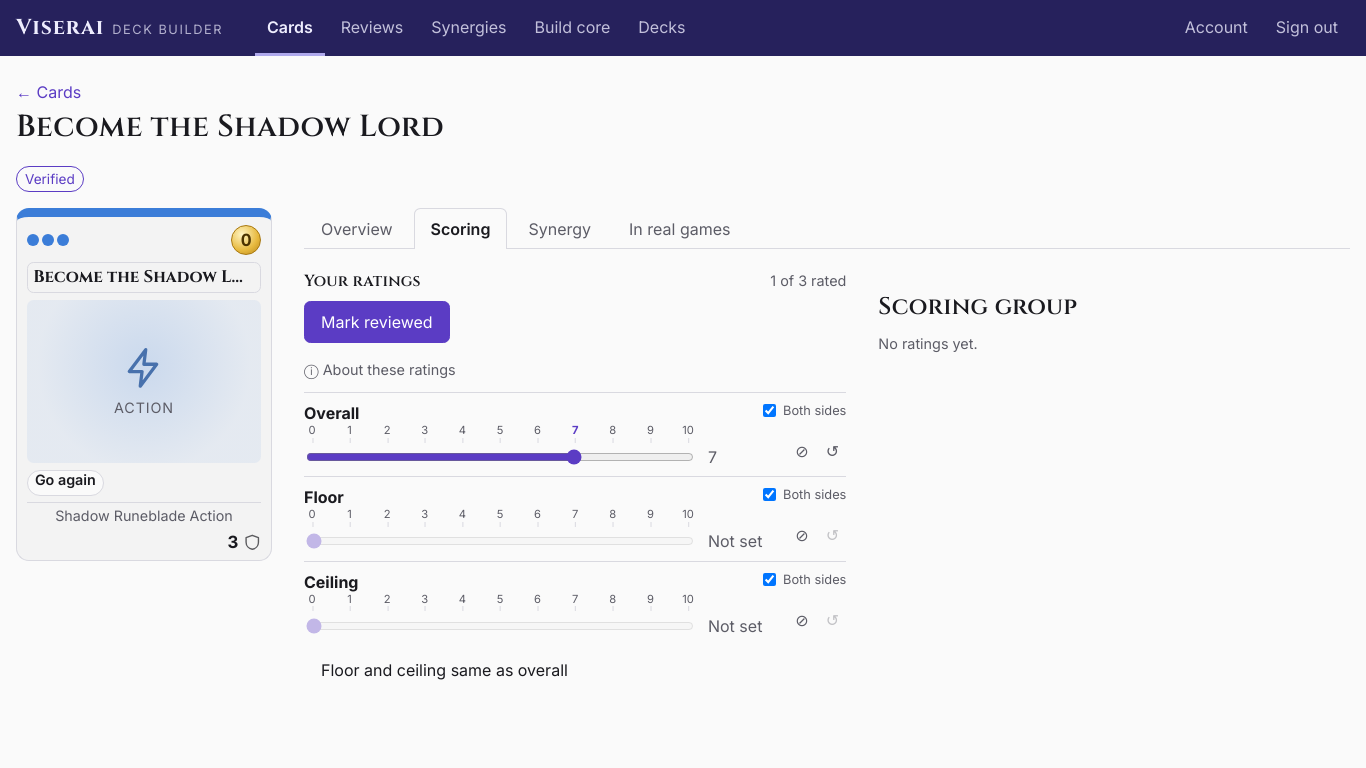
Test case: Mark reviewed › highlights a blank floor and ceiling on a card with conditions, until confirmed as the same as overall
Click the button "Mark reviewed" at (377, 322), box [304, 301, 450, 343]
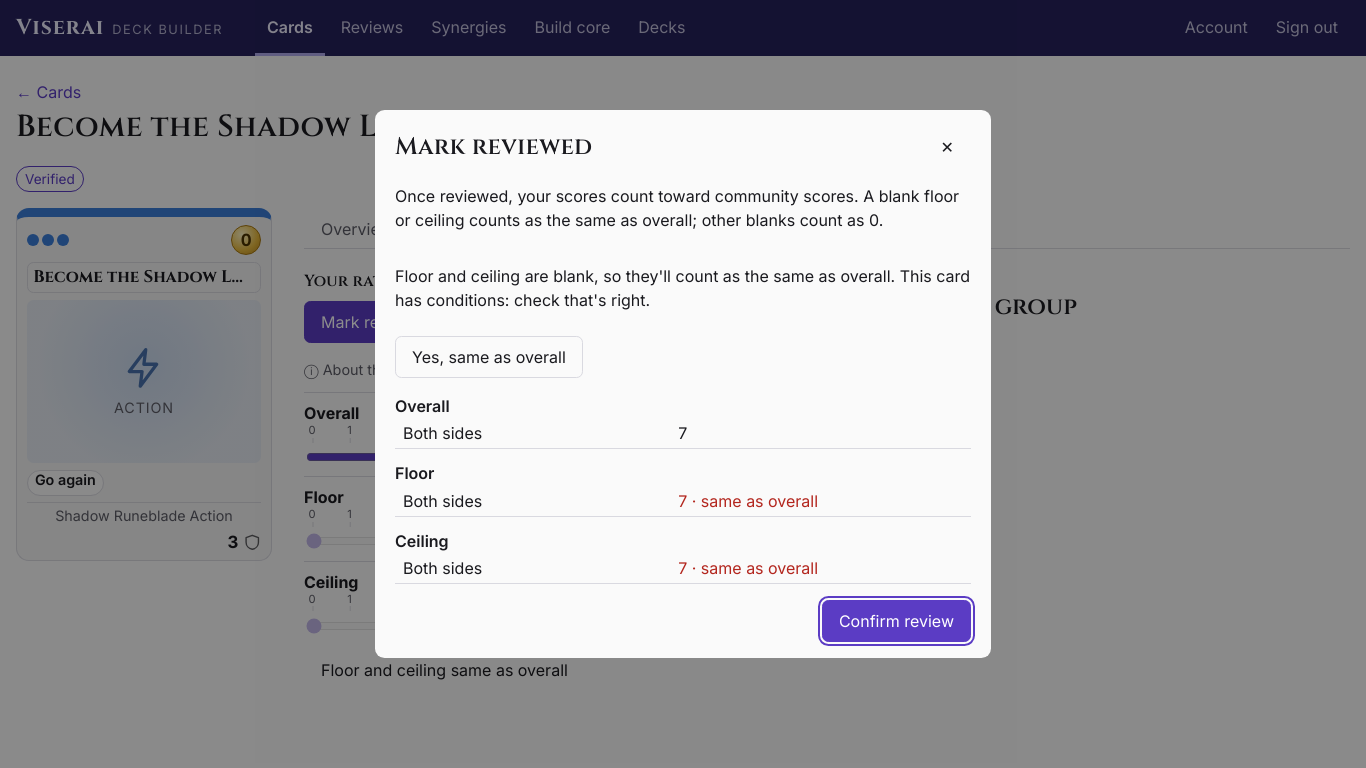
expect the text "Floor and ceiling are blank, so they'll count as the same as overall. This card has conditions: check that's right." is shown: met, box [395, 266, 970, 310]
Click the button "Yes, same as overall" at (489, 357), box [395, 336, 583, 378]
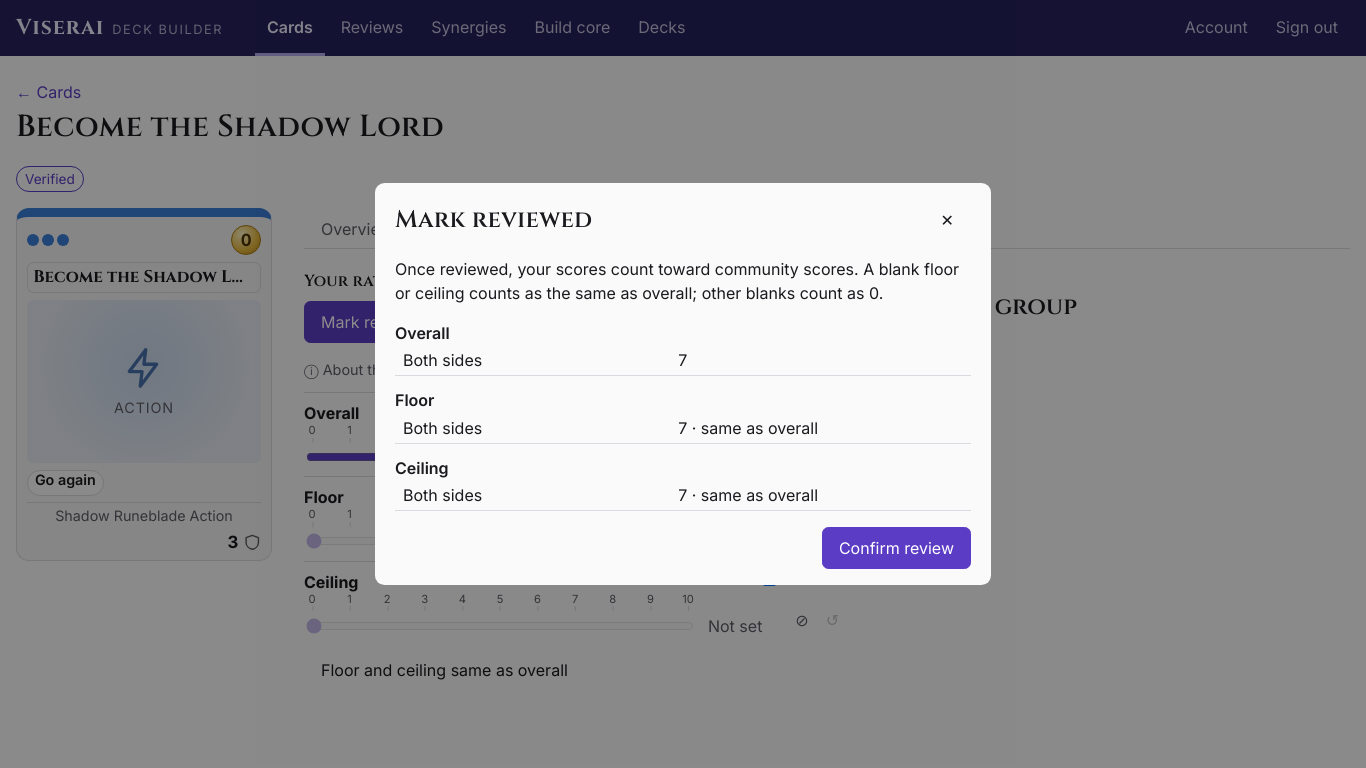
expect the button "Confirm review" is enabled: met, box [822, 527, 971, 569]
expect the button "Yes, same as overall" is gone: met
